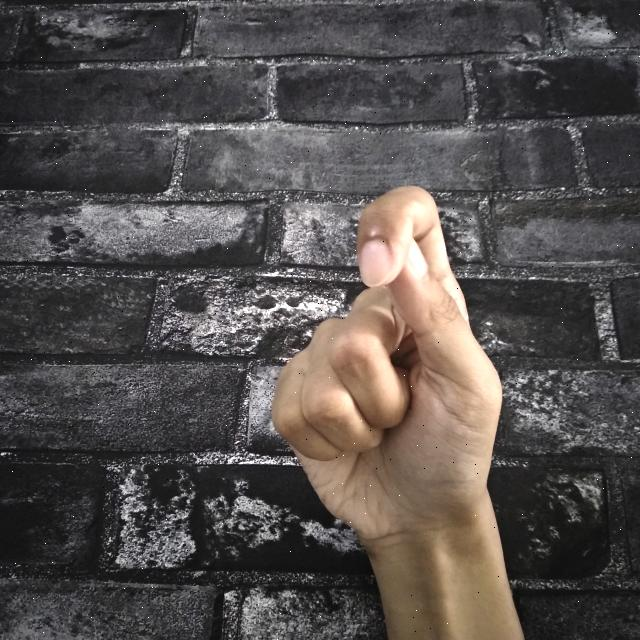T: (270, 181, 528, 640)
